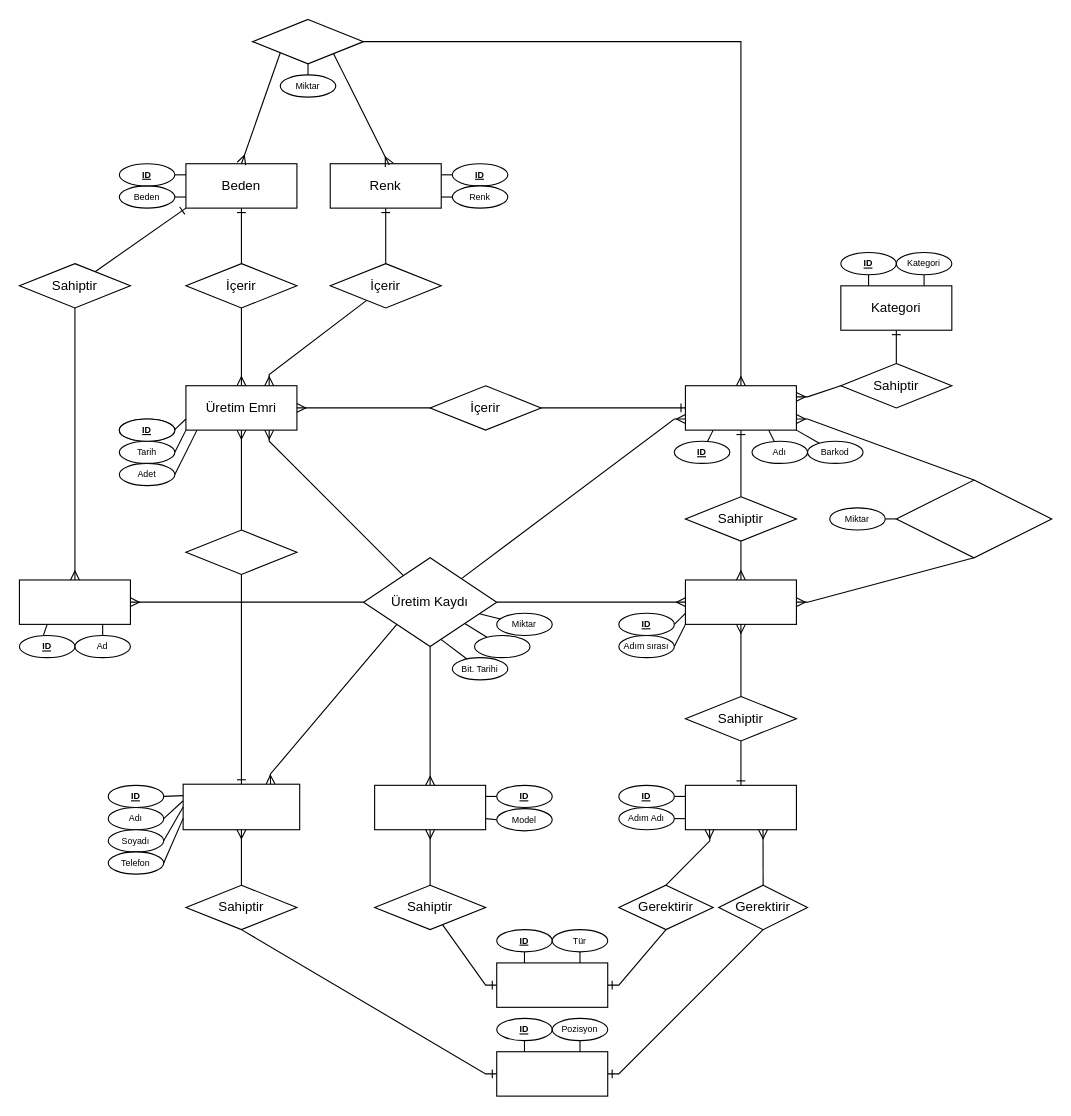
Image size: 1071x1116. Some labels were removed from this diagram. The shapes that lost their labels are listed below. From the top down, each one's box as (x1, y1, x2, y2) in pixels, then its label:
(251, 18, 364, 64): Stok
(684, 385, 796, 430): Ürün
(895, 479, 1052, 558): Adım için gereken ürünler
(185, 529, 297, 574): Verir
(18, 579, 130, 624): Kalıp
(684, 579, 796, 624): Üretim Adımları
(473, 634, 530, 658): Baş. Tarihi
(182, 783, 300, 830): Personel
(374, 784, 486, 830): Makine
(684, 784, 796, 830): İşlem Türü
(496, 962, 608, 1007): Makine Türü
(496, 1051, 608, 1096): Personel Konumu
